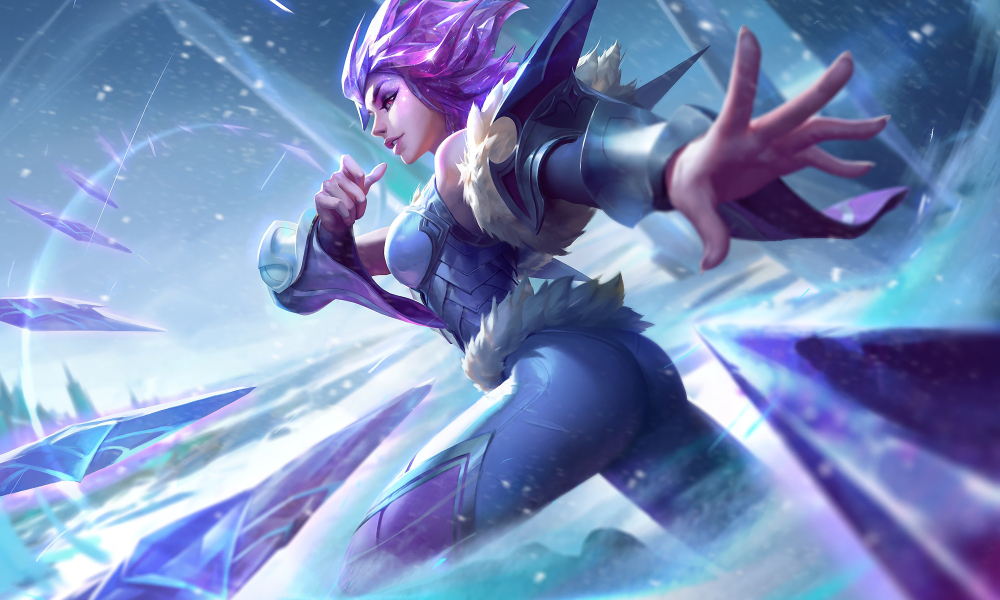face: (327, 1, 523, 170)
